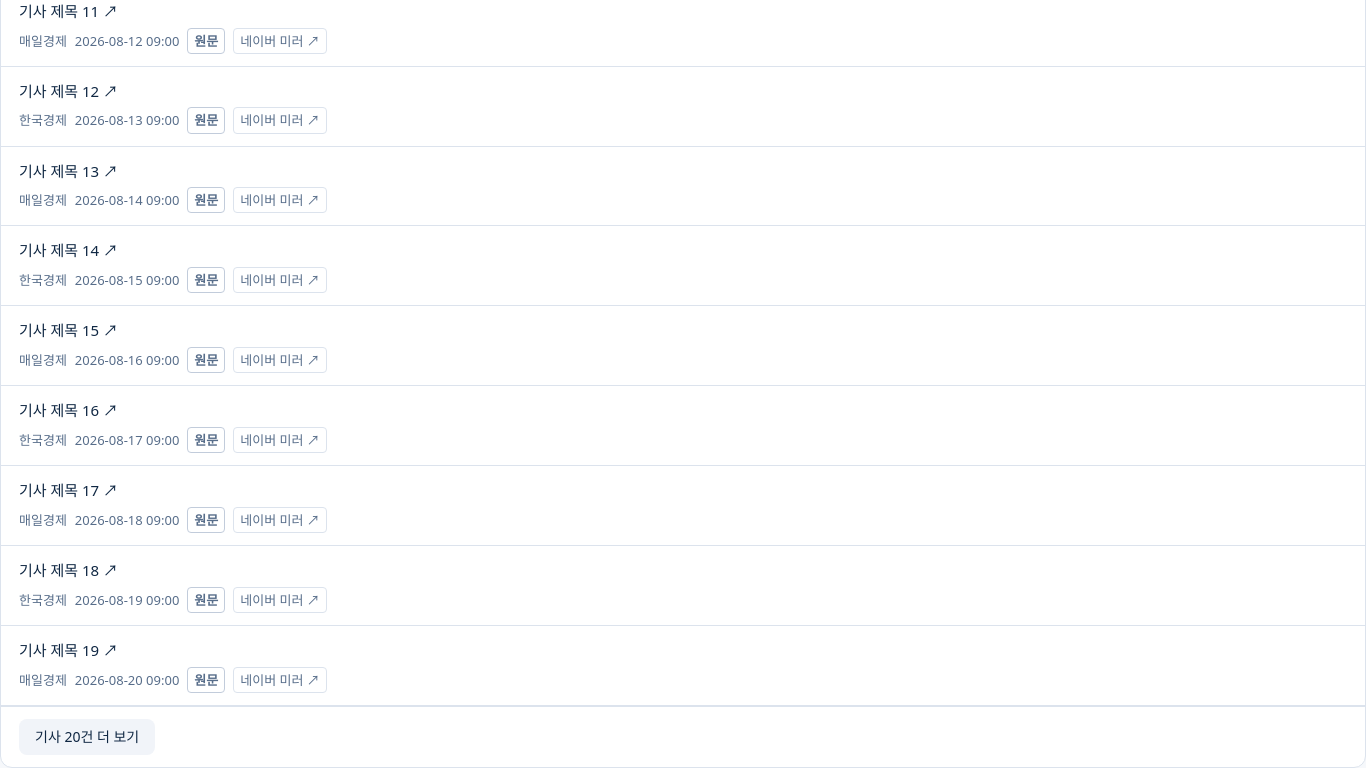
Test: ClusterArticlesList paging and filters › shows the first page and a more button labelled with the next batch size
The width and height of the screenshot is (1366, 768).
(page scrolled)
Click the button "기사 20건 더 보기" at (87, 737), box [19,719,155,755]
(page scrolled)
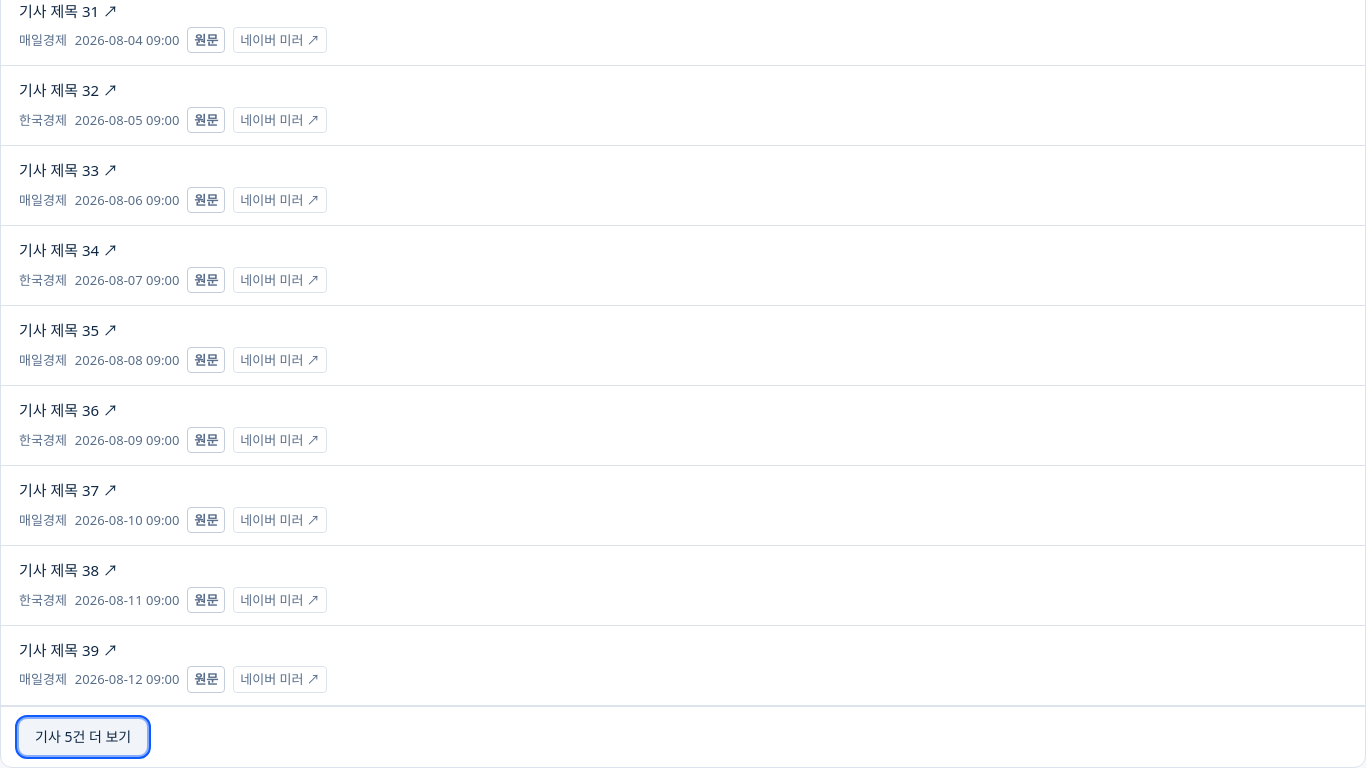
Now the button "기사 5건 더 보기" is shown
Click the button "기사 5건 더 보기" at (83, 737), box [19,719,147,755]
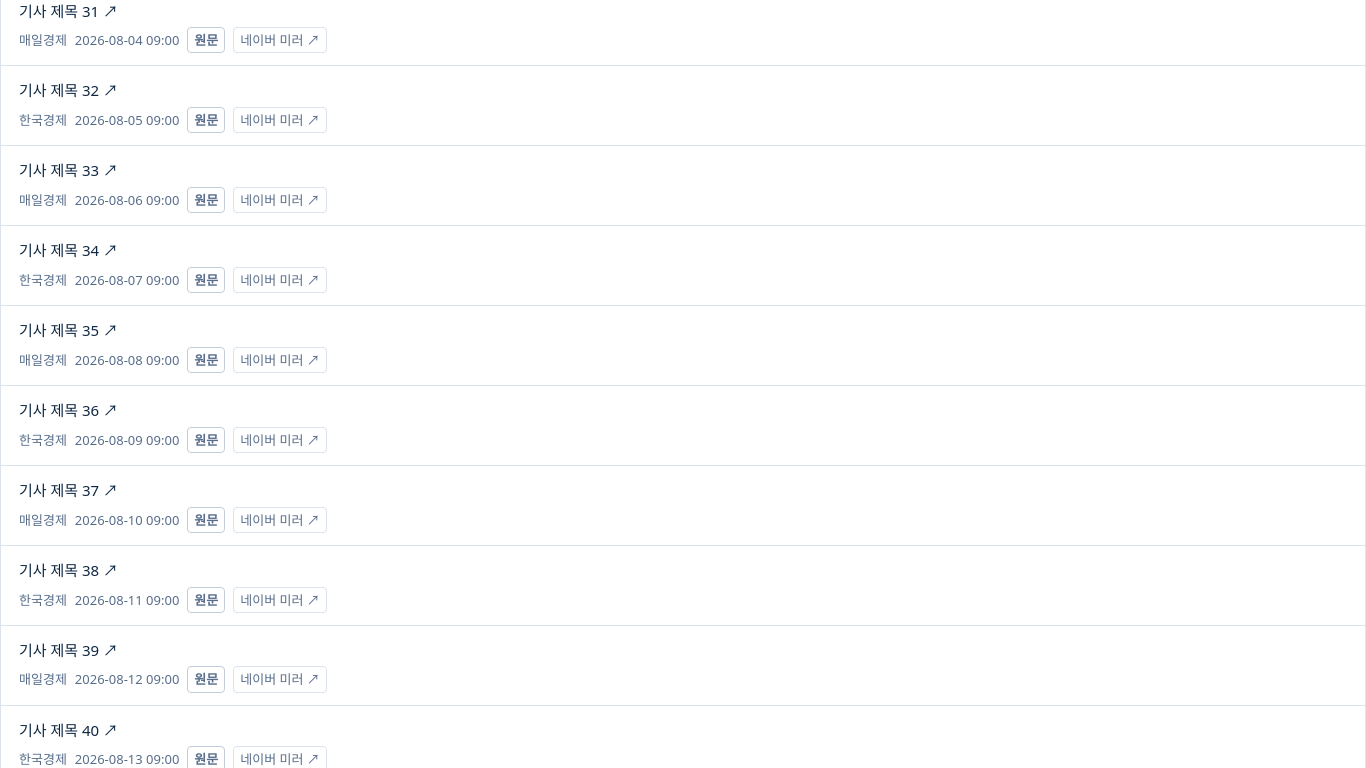
Now the button "더 보기" is gone
